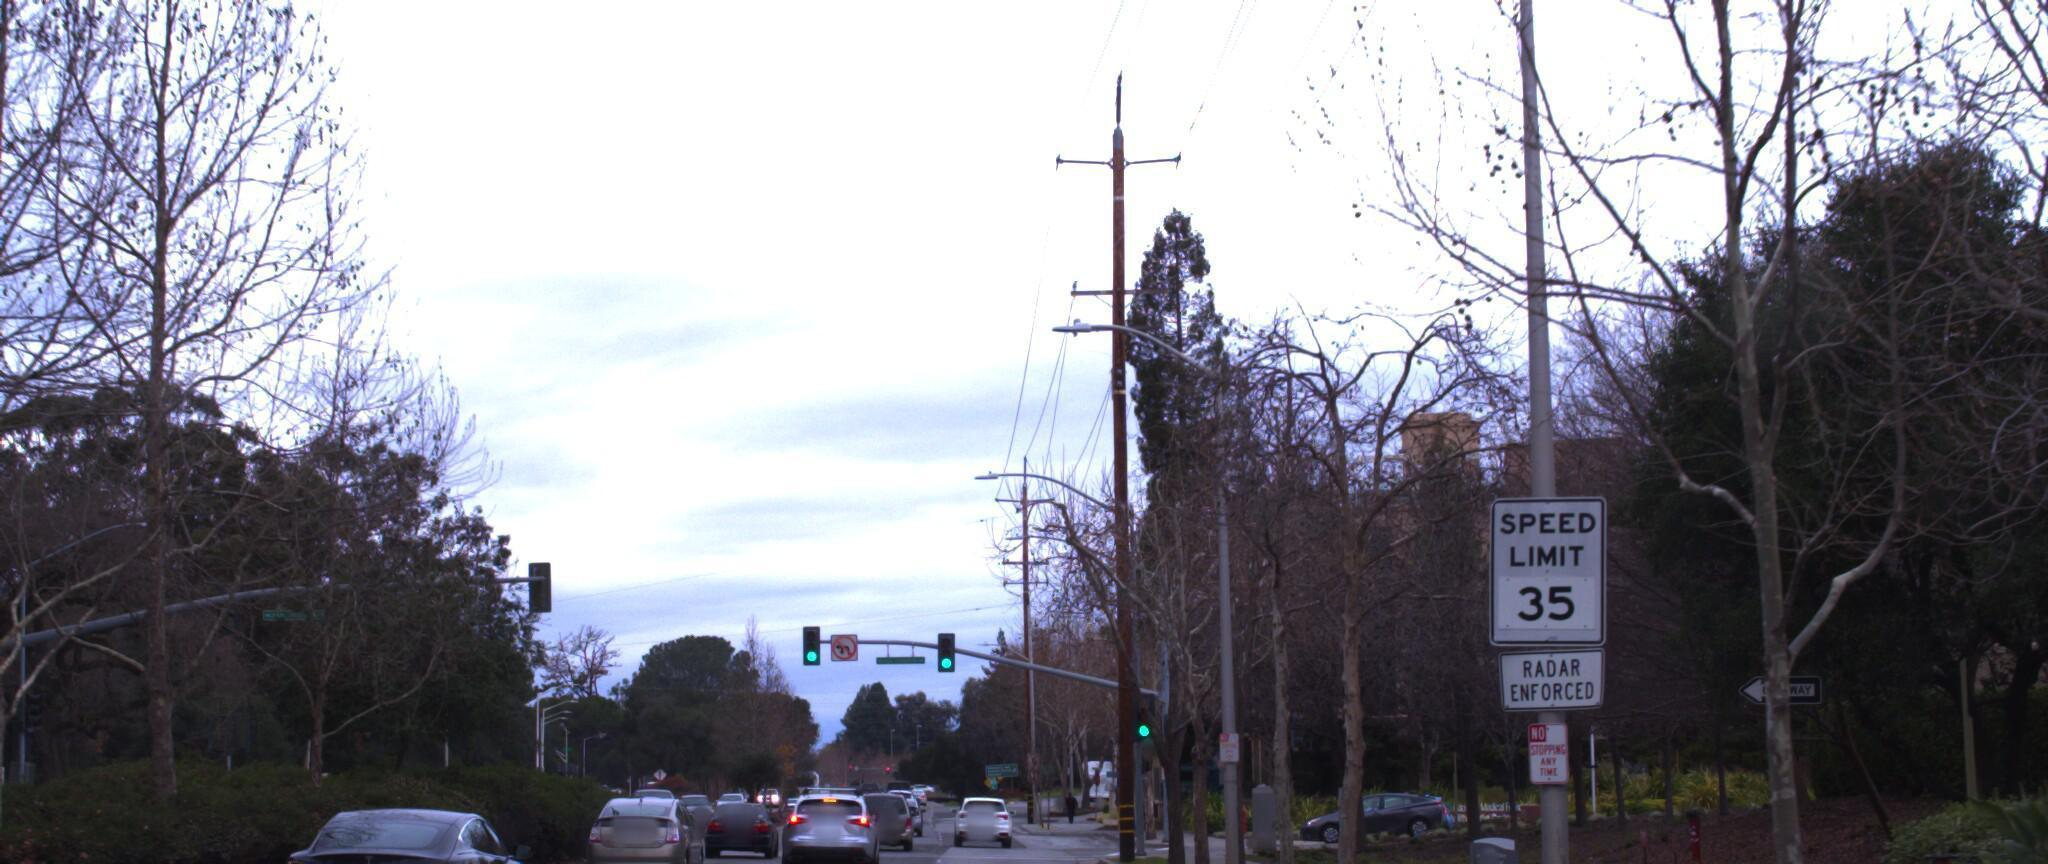car: (266, 782, 556, 864), (584, 777, 720, 864), (788, 764, 892, 856), (712, 778, 798, 834)
